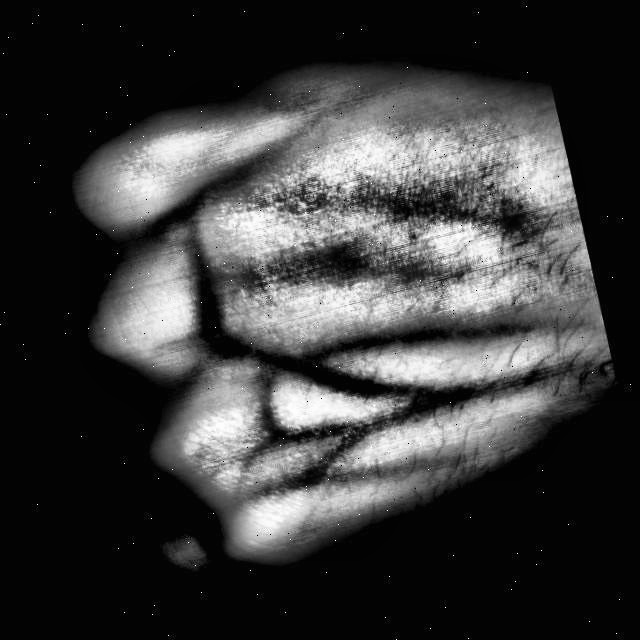Vein: (342, 314, 530, 360)
